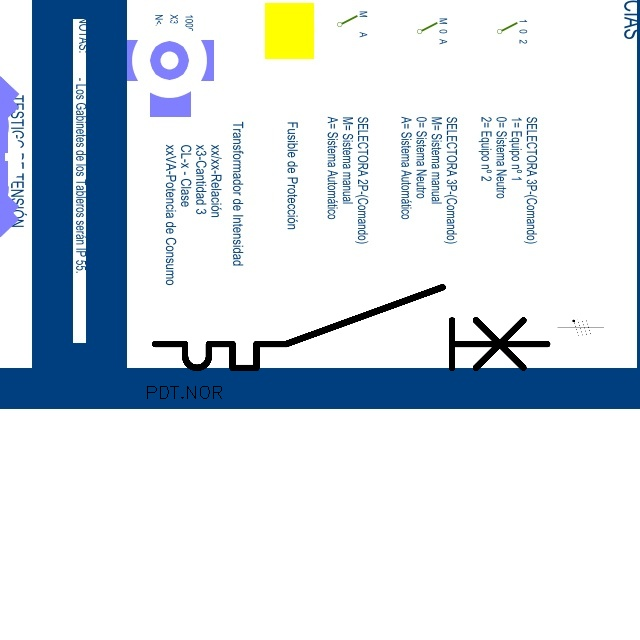interruptor_termomagnetico: (145, 277, 557, 378)
